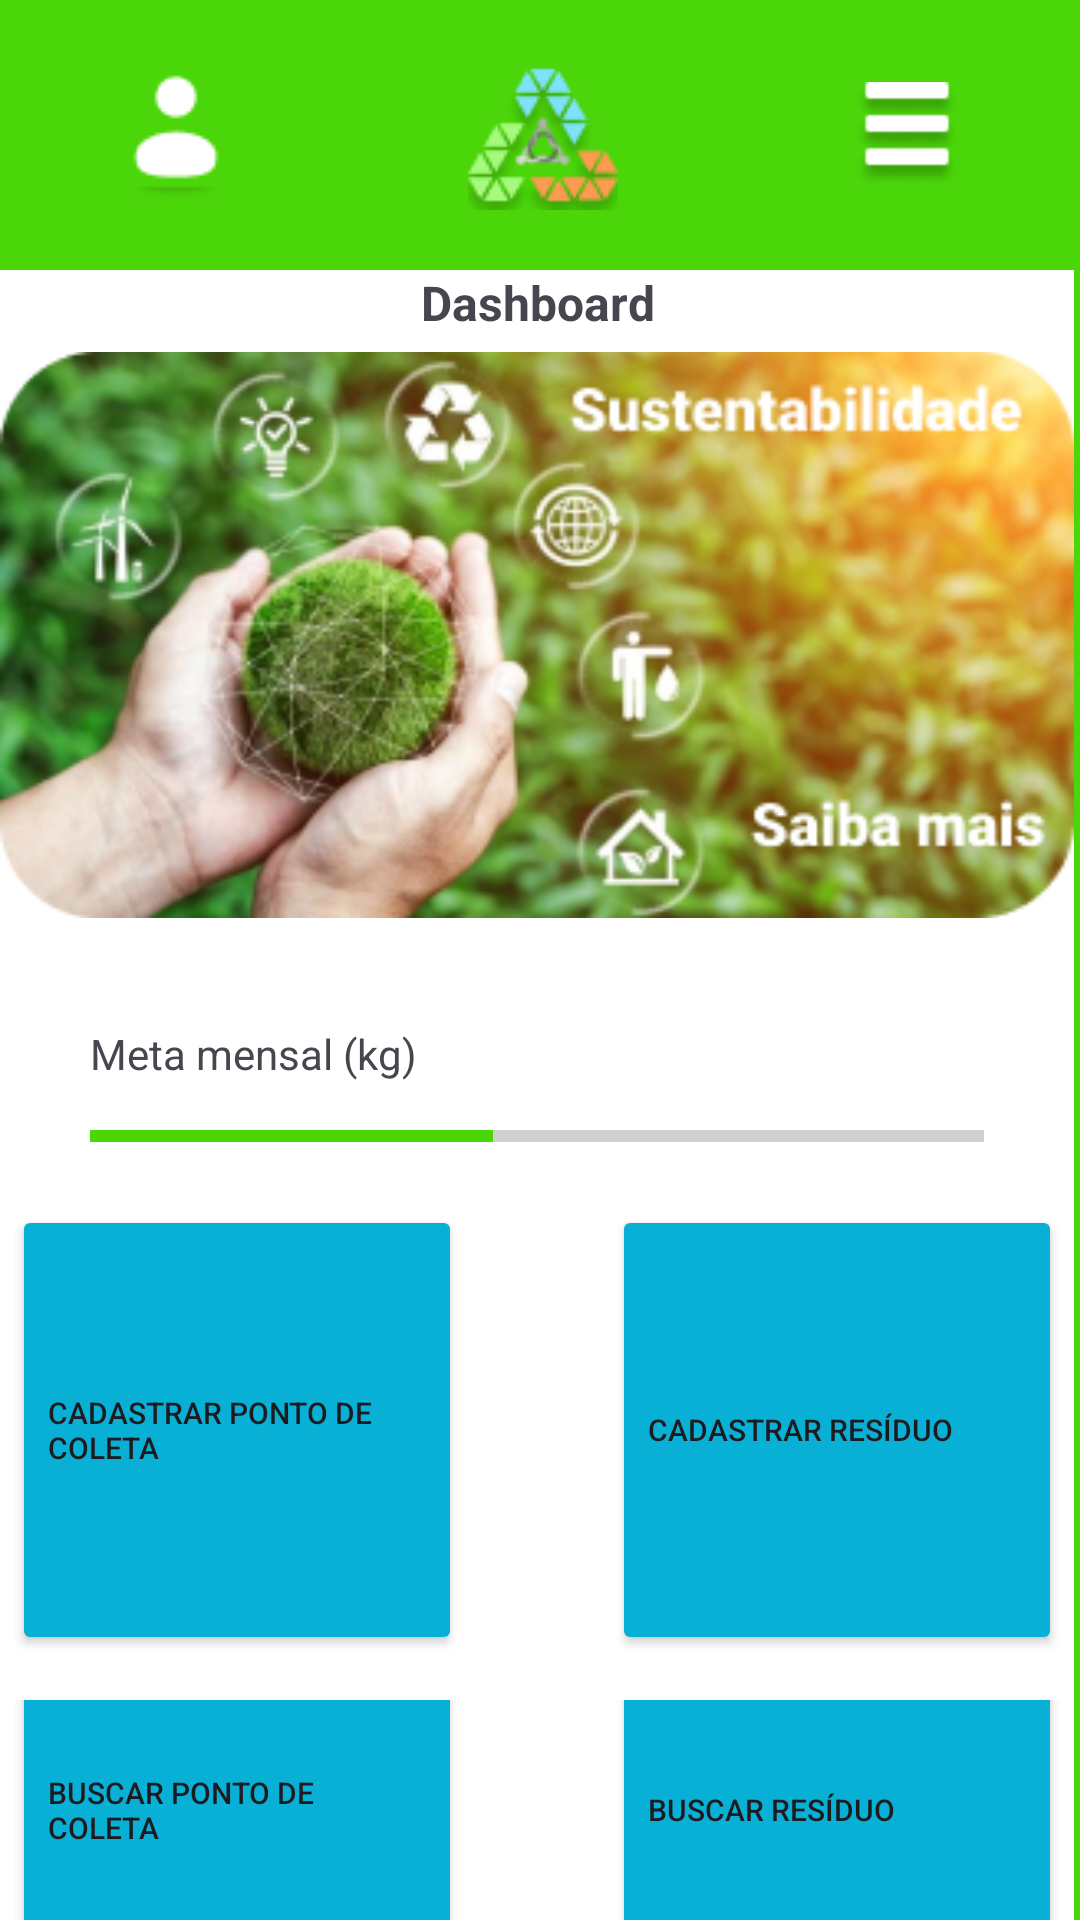

Where icons sit on this 1080×1920 app screen, as [x1,y1,x2,y2]:
user: [133,75,219,190]
